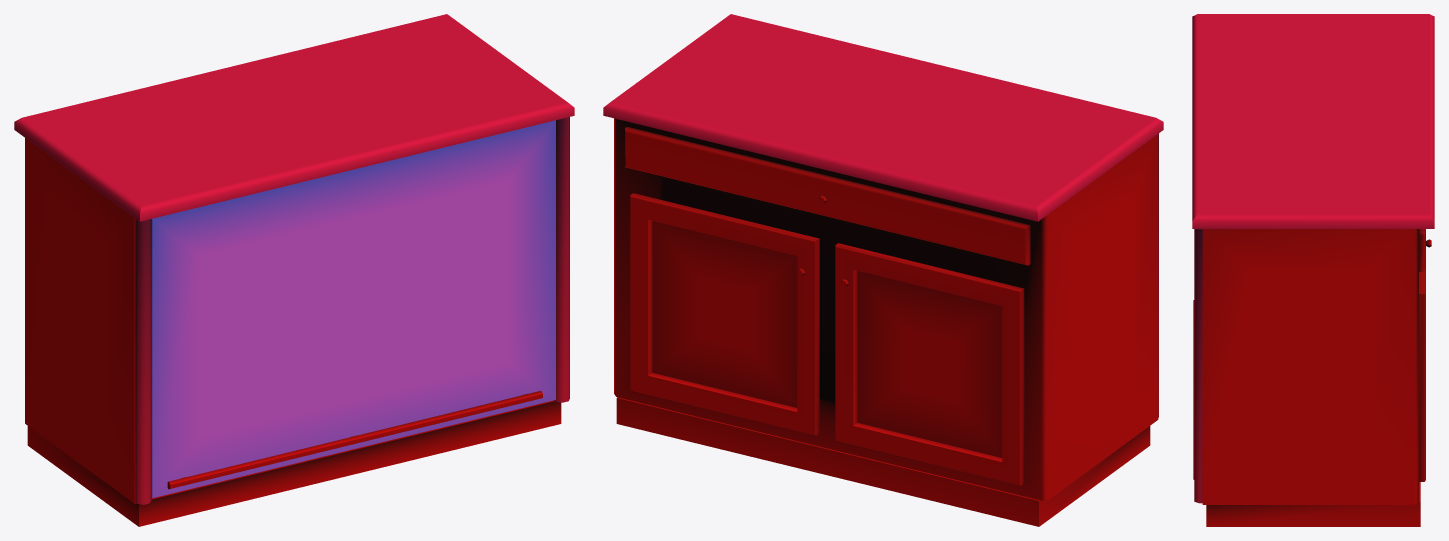
Rendered from CI_Bakery_TillCounter.glb.
The picture shows the model from 3 angles, left to right: view 1: azimuth 30°, elevation 25°; view 2: azimuth 150°, elevation 25°; view 3: azimuth 270°, elevation 25°; orthographic projection. The views are drawn at different scales.
Visible parts, largest first — view 1: CI_Bakery_TillCounter; view 2: CI_Bakery_TillCounter; view 3: CI_Bakery_TillCounter.
Part boxes in pixels (x1,y1,x2,y2): CI_Bakery_TillCounter: (14,14,574,526); CI_Bakery_TillCounter: (603,14,1163,526); CI_Bakery_TillCounter: (1192,14,1434,526).
Size of the model in its own units: 1.4 by 1 by 0.7.
